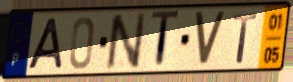0: (68, 15, 96, 71)
A: (26, 17, 65, 73)
N: (104, 10, 148, 73)
T: (149, 8, 181, 72), (232, 12, 260, 66)
V: (193, 10, 228, 68)
